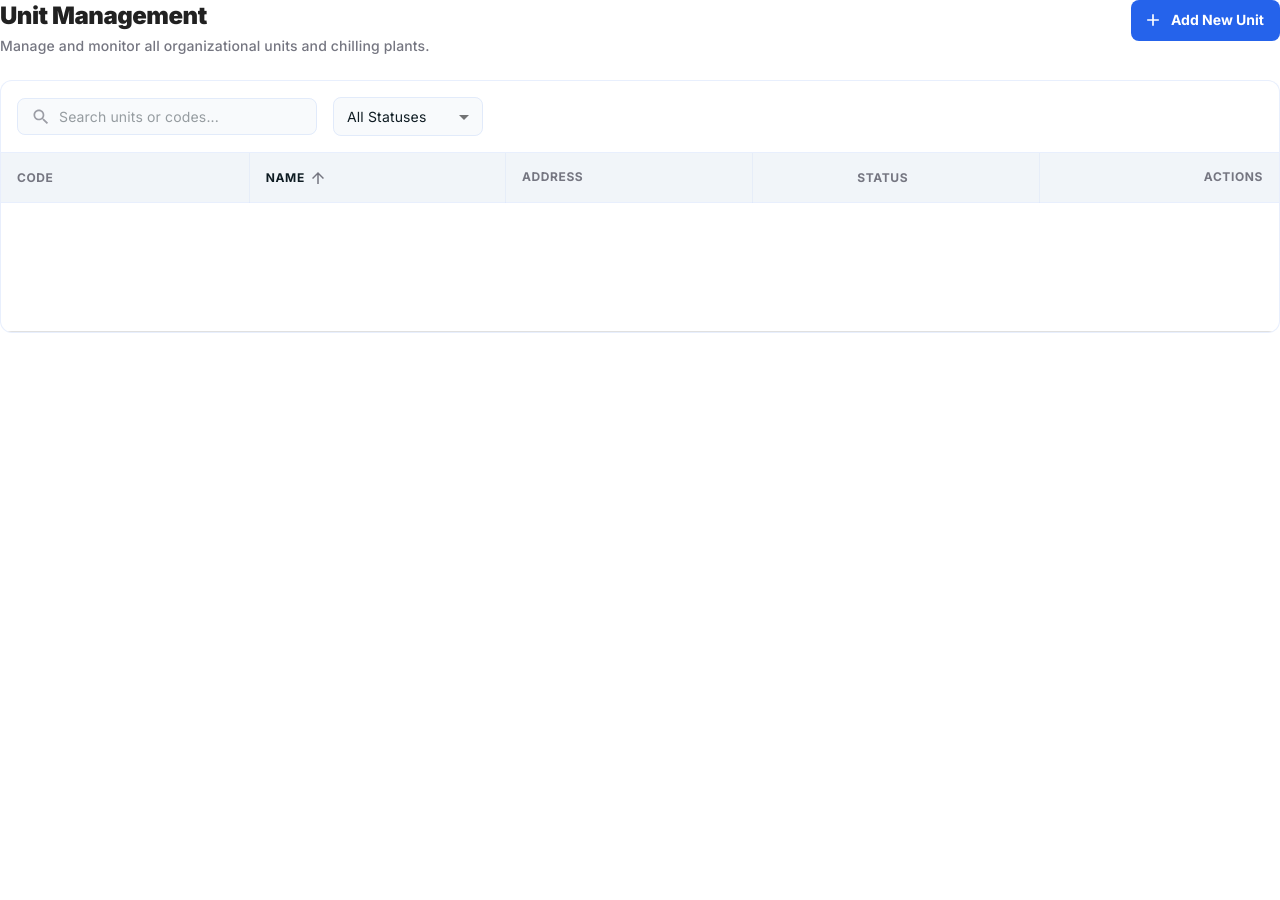
Test: UnitsPage › opens create modal when clicking Add New Unit button
Find the button and click it
Step 1. Click the button "Add New Unit" → coordinates (1206, 20), box x1=1131 y1=0 x2=1279 y2=40
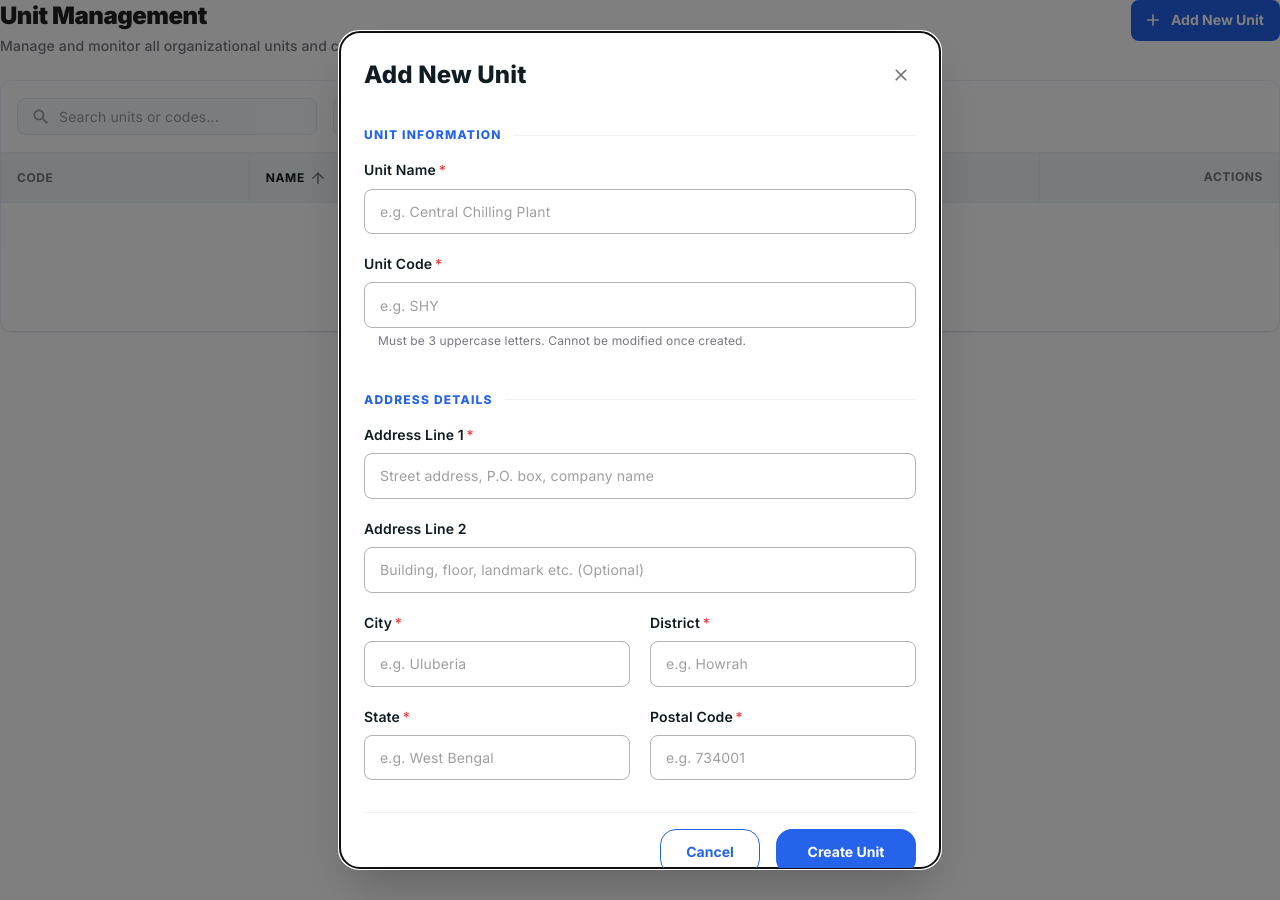
Expected: the dialog is shown, x1=340 y1=32 x2=940 y2=868
